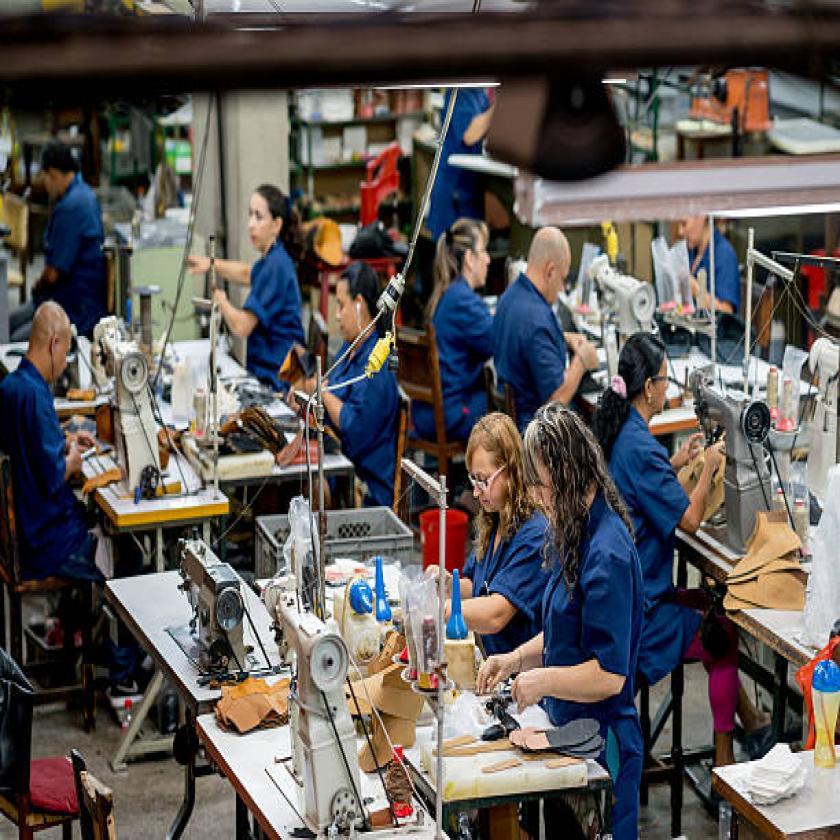Sin_casco: (515, 387, 612, 540), (613, 316, 681, 426), (459, 409, 523, 514), (432, 215, 503, 297), (22, 291, 76, 396), (333, 247, 385, 356), (522, 209, 575, 302), (239, 184, 295, 264), (31, 134, 86, 192)
